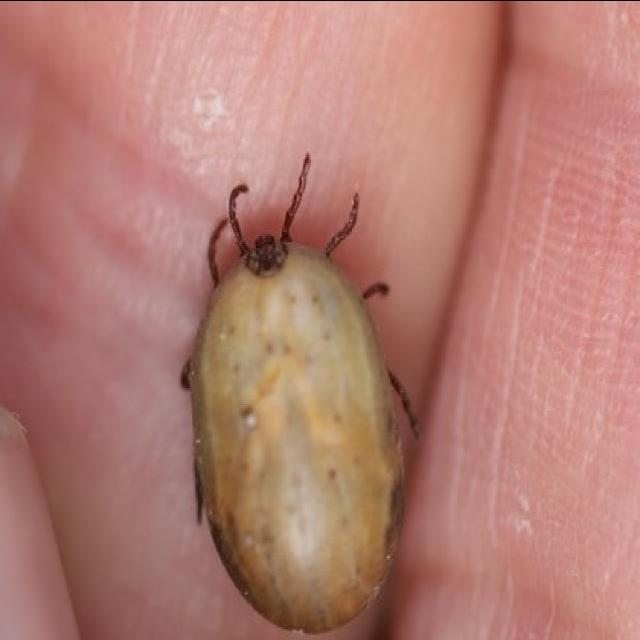Dermacentor Reticulatus-F-Fed: (180, 152, 411, 632)
